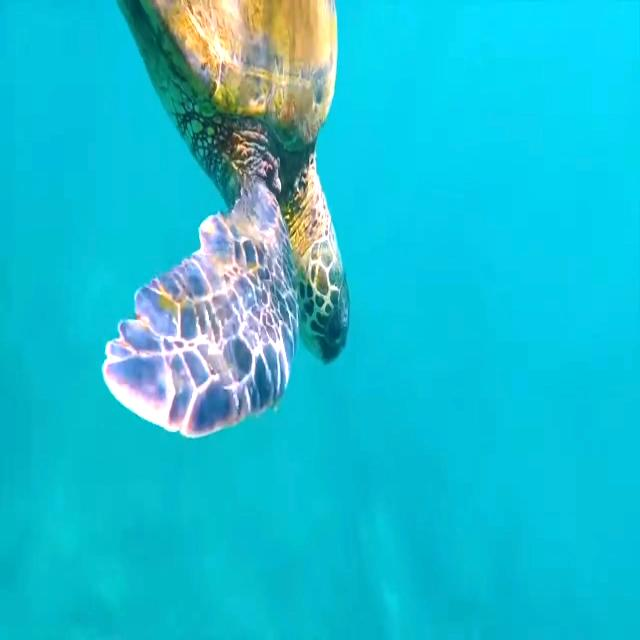Sea turtle: (98, 0, 353, 443)
